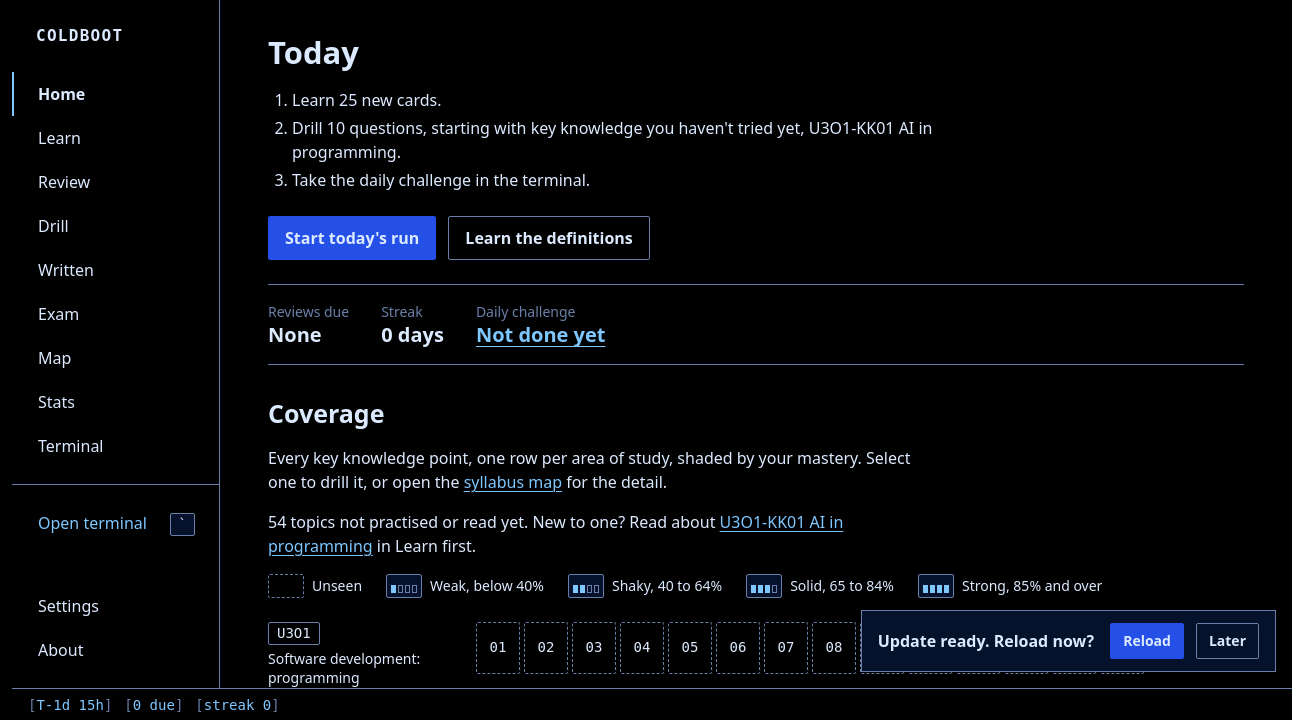
Scenario: Layout › offers the update with Reload and Later
expect the navigation bar named "Main" is shown: met, box x1=12 y1=0 x2=220 y2=688
expect the element "Update" shows "Update ready. Reload now?": met, box x1=878 y1=630 x2=1094 y2=652
Click the button "Later" at (1227, 641), box x1=1196 y1=623 x2=1259 y2=659
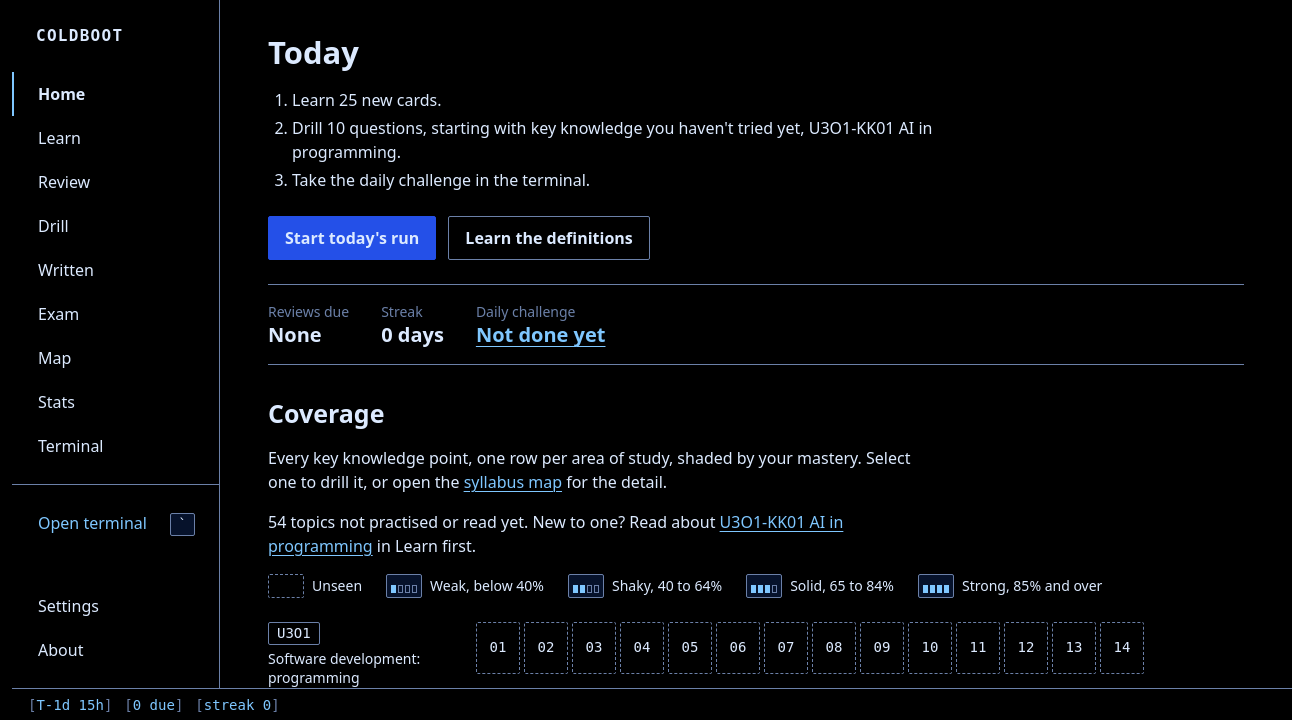
expect the element "Update" is gone: met
